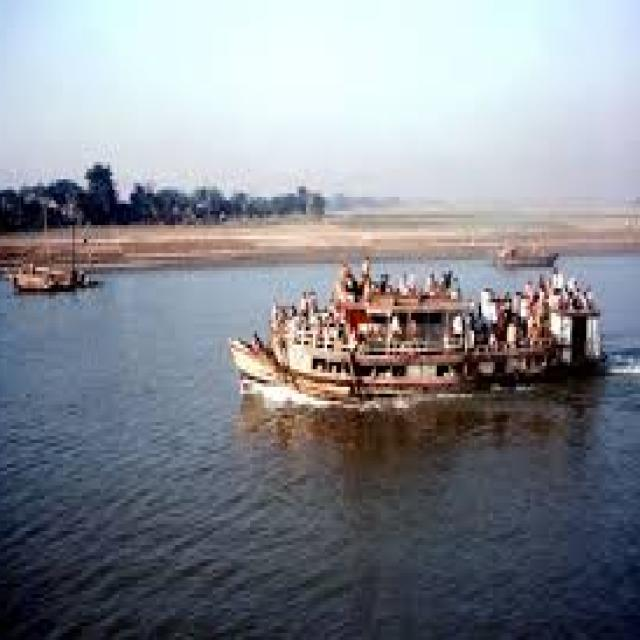houseboat: (215, 256, 606, 426)
